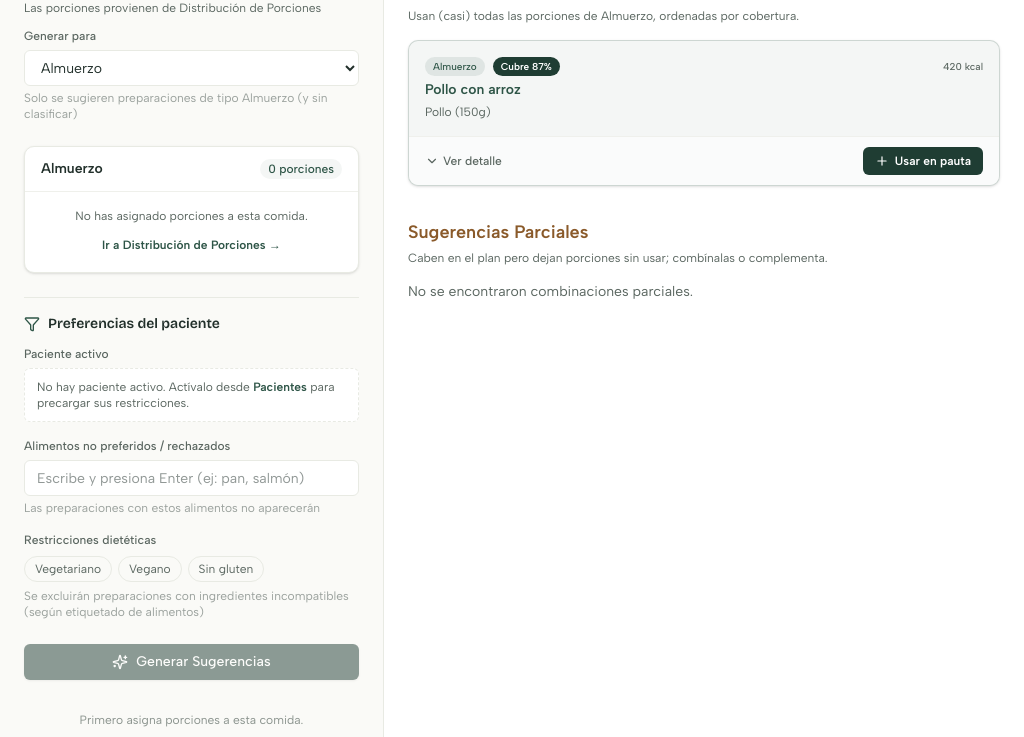
Test: GeneradorPreparaciones › restricciones dietéticas › marca los ingredientes sin etiquetar en la sugerencia cuando hay restricciones
(page scrolled)
Click the button "Vegetariano": click(68, 569) [24,556,112,582]
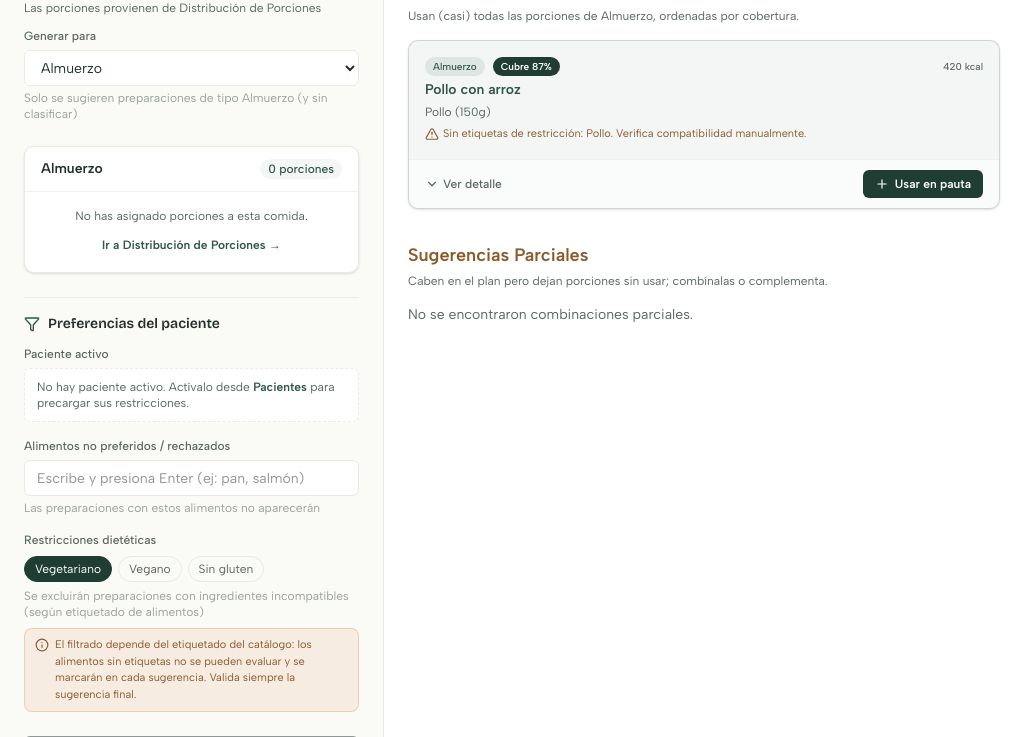
Expected: the text "Sin etiquetas de restricción: Pollo" is shown, [443,126,806,142]
